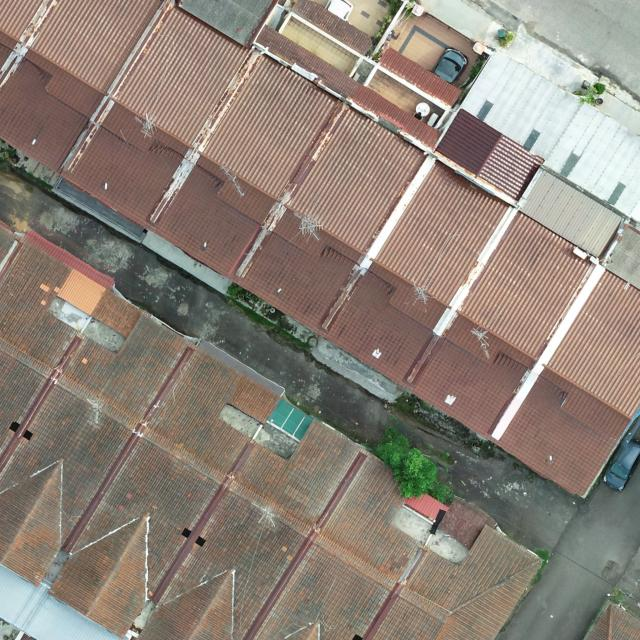tree: (380, 432, 437, 498)
